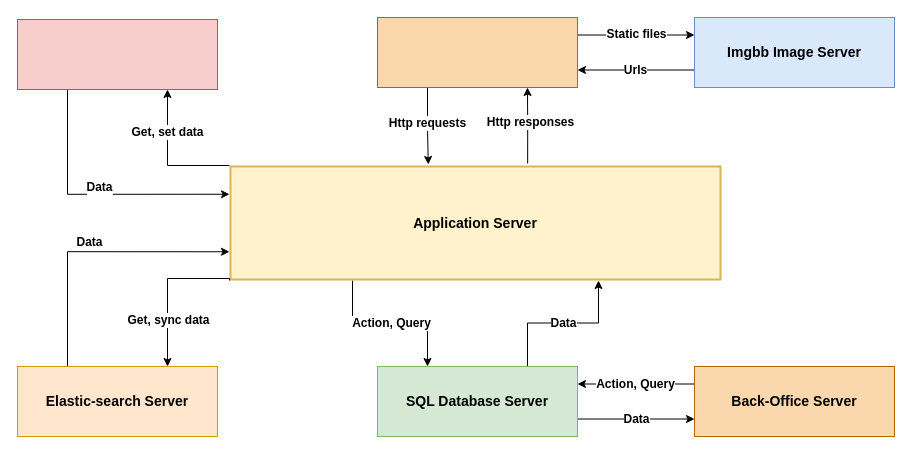
Image size: 912x454. Some labels were removed from this diagram. Each missing label, with the centre of its shape:
Redis Cache Server: point 117,54
Web Server: point 477,52
